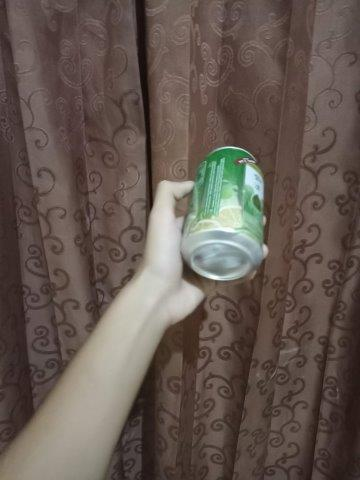kaleng: (181, 146, 264, 282)
